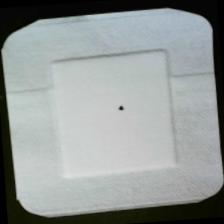Dressing: (1, 3, 224, 221)
F_Body: (105, 95, 137, 122)
